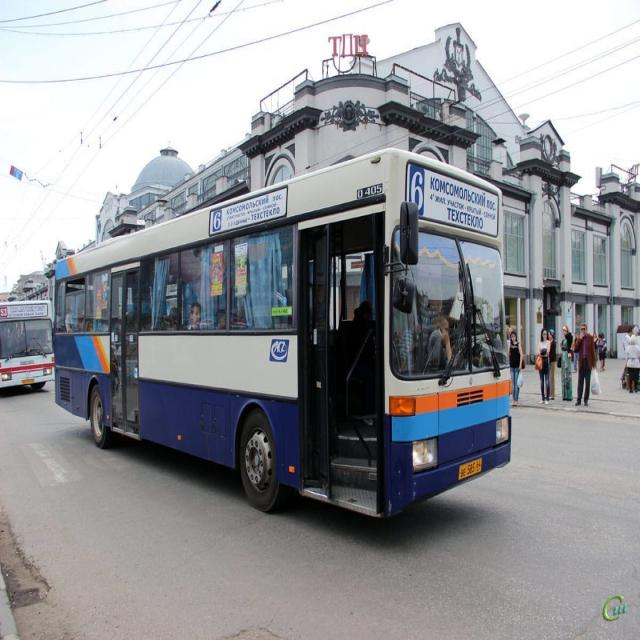number-of-bus: (410, 166, 426, 214), (213, 212, 225, 232)
